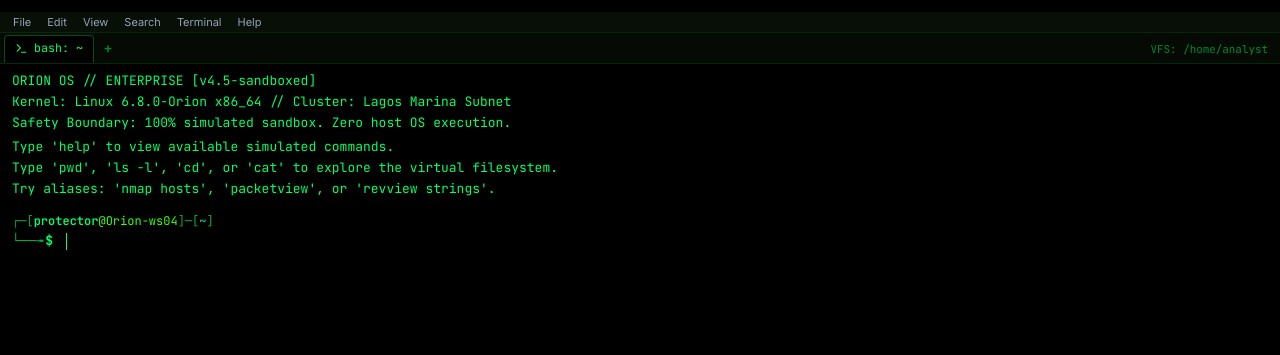
Test case: TerminalApp Component › displays in-game simulation time when running date command
The image size is (1280, 355).
Step 1. Type "date" into the field with test id "terminal-command-input" → {"x": 667, "y": 241}, box top-left (66, 231), bottom-right (1268, 252)
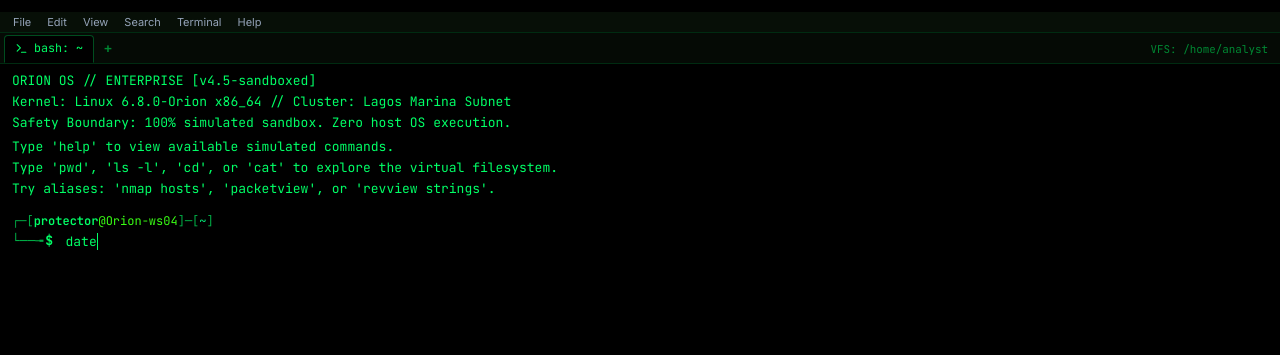
Step 2. Press Enter in the field with test id "terminal-command-input", box top-left (66, 231), bottom-right (1268, 252)
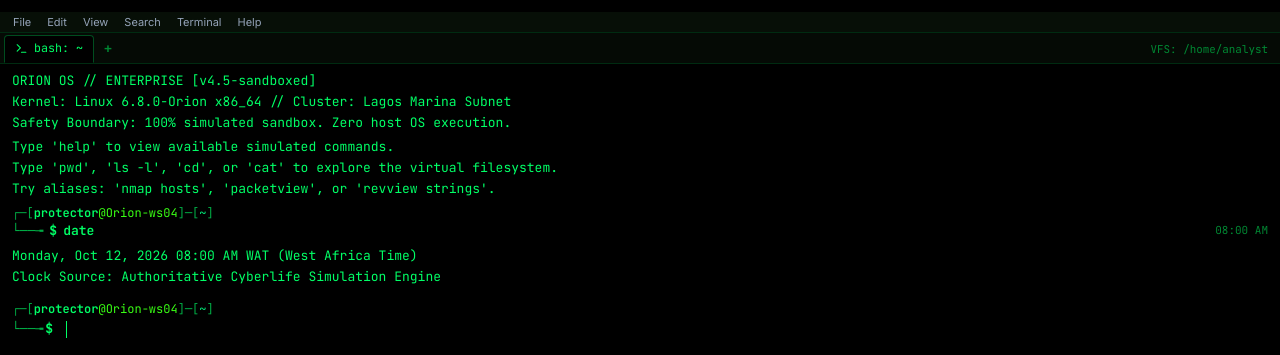
Result: the text "Monday, Oct 12, 2026 08:00 AM WAT (West Africa Time)" is shown at top-left (12, 247), bottom-right (418, 264)
Result: the text "Clock Source: Authoritative Cyberlife Simulation Engine" is shown at top-left (12, 268), bottom-right (441, 285)
